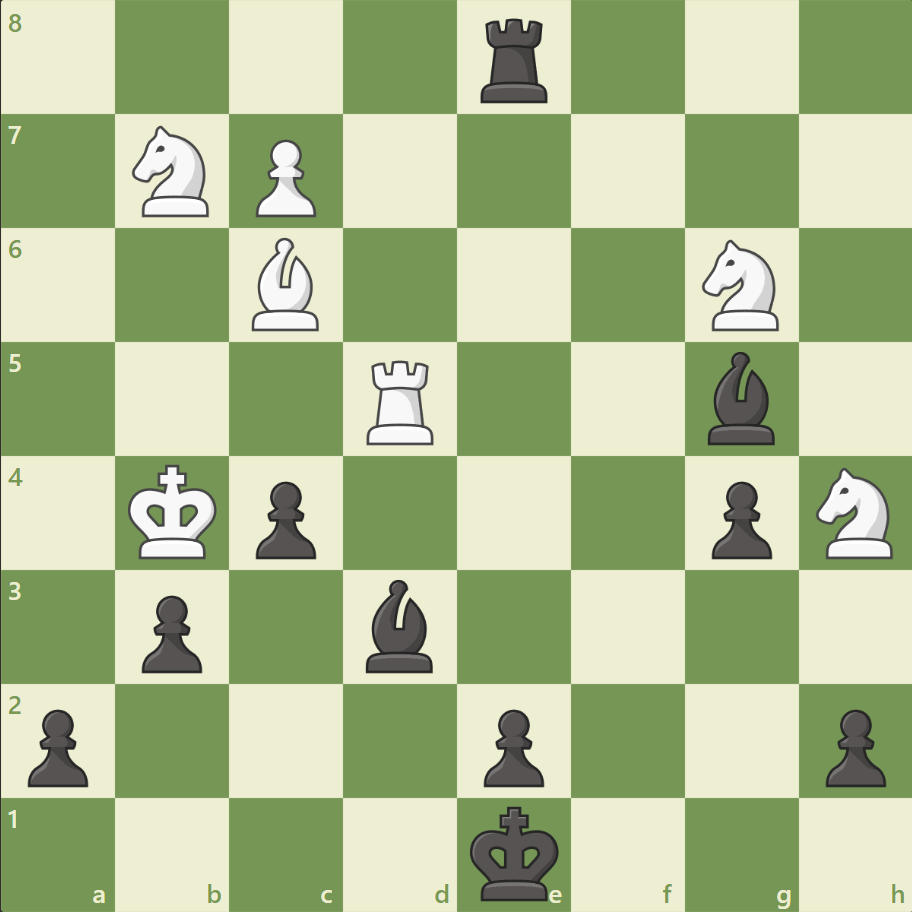B: (244, 233, 328, 336)
K: (124, 458, 224, 566)
N: (124, 121, 222, 223), (692, 234, 789, 337), (806, 461, 903, 564)
P: (247, 132, 322, 223)
R: (360, 352, 442, 449)
b: (698, 347, 782, 449), (358, 574, 442, 676)
k: (465, 798, 565, 906)
p: (247, 473, 322, 564), (701, 473, 776, 564), (133, 586, 208, 677), (20, 700, 95, 791), (474, 700, 549, 791), (815, 700, 889, 791)
r: (473, 12, 556, 109)
